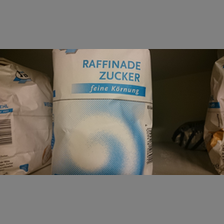sugar: (52, 49, 155, 176), (1, 58, 51, 172)
